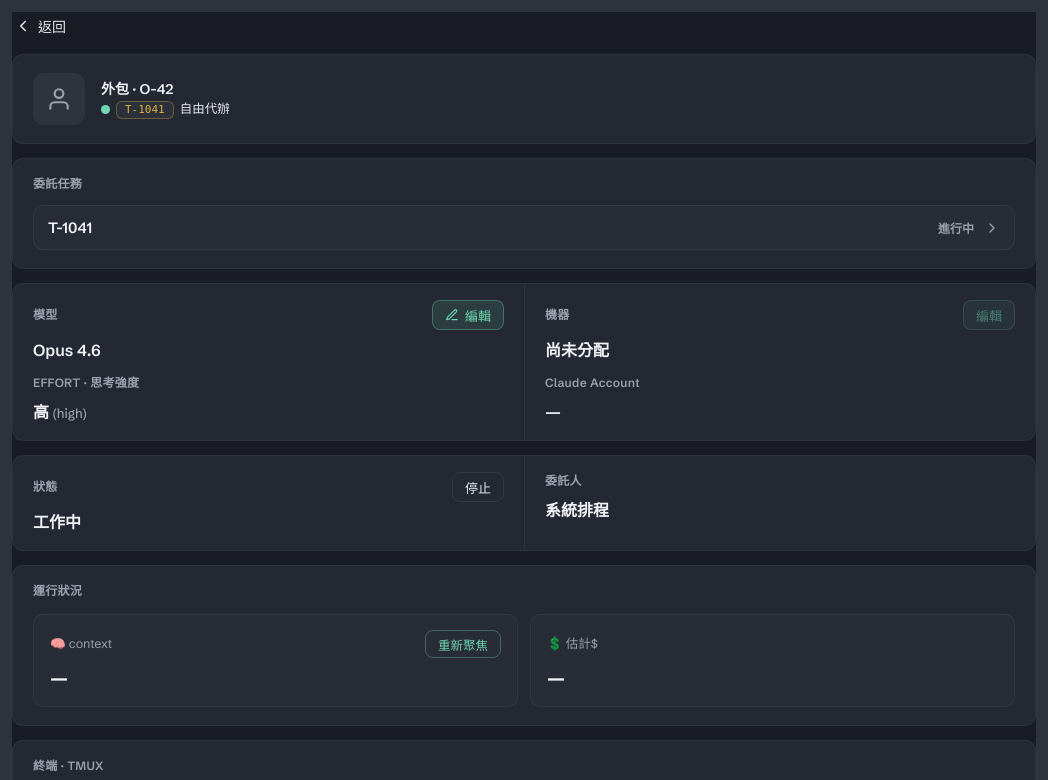
Test: WorkerDetailPanel — lifecycle ops (T-32e1/T-f190) › stop → the worker reads 已停止 and the toggle flips to 重啟
What coordinates should you click on to do the following:
click the button with test id "worker-detail-stop-toggle"
I would click on:
 (478, 487)
Its box is [452,472,504,502].
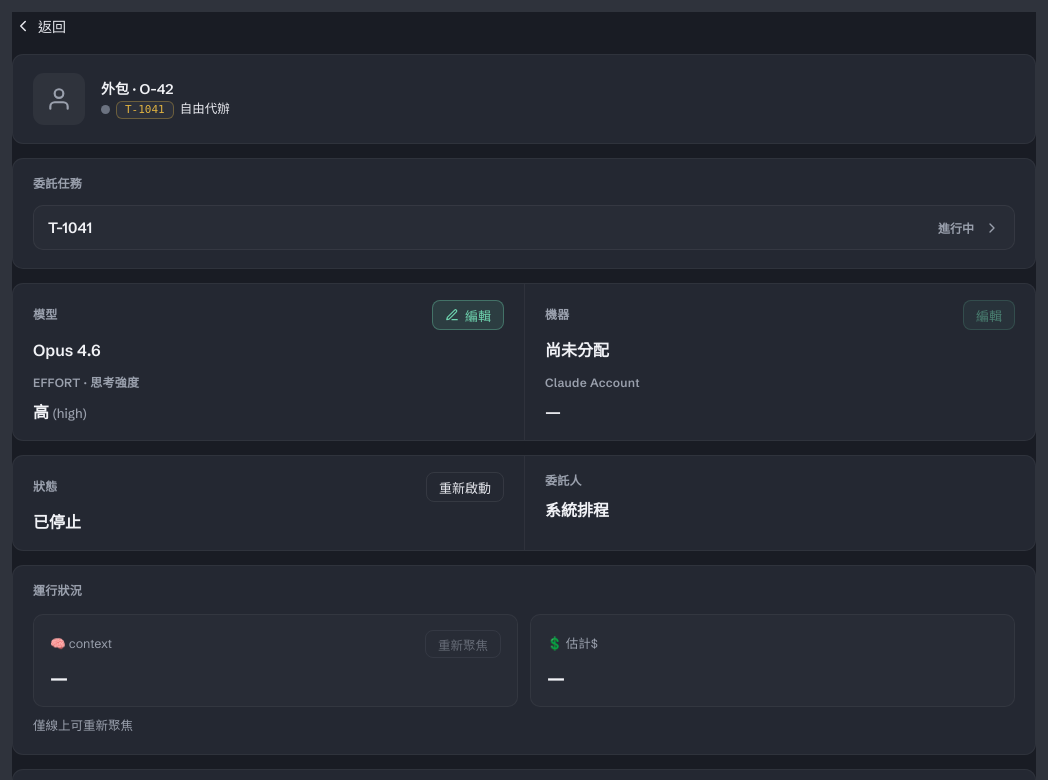
Now the text with test id "worker-detail-status" reads "已停止", box [33,512,81,532]
Now the button with test id "worker-detail-stop-toggle" reads "重新啟動", box [426,472,504,502]
